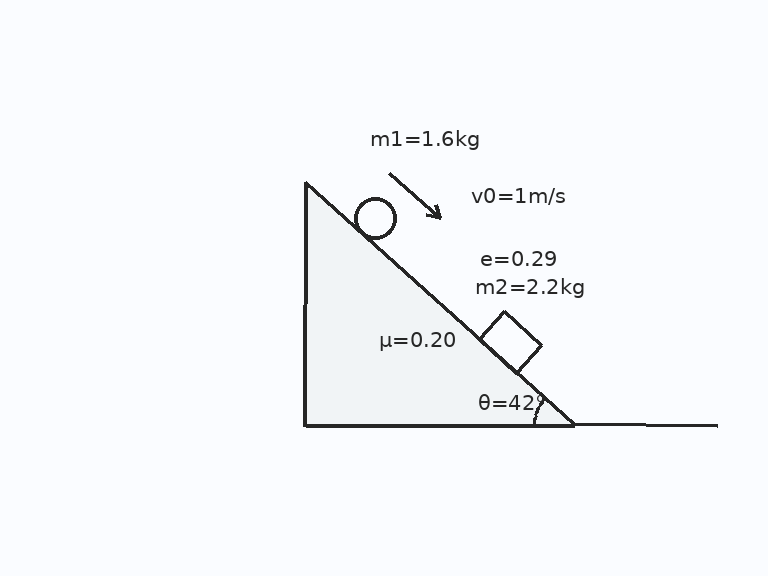ball: (352, 195, 398, 241)
block: (476, 309, 543, 375)
ramp: (302, 180, 576, 427)
